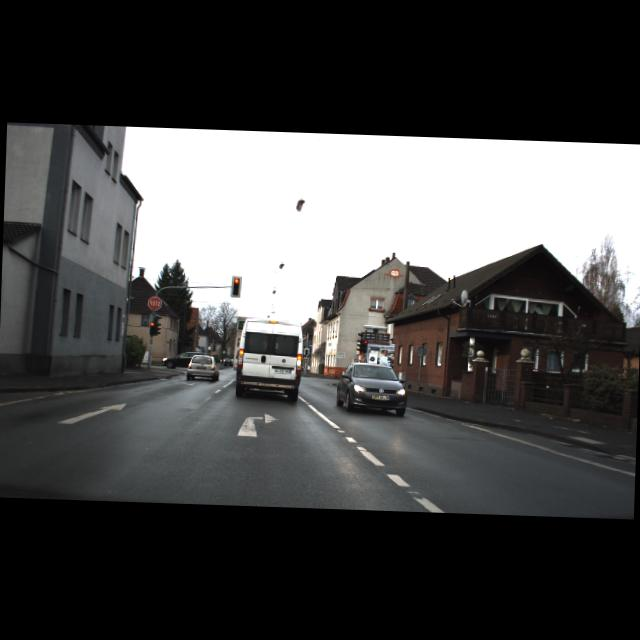other: (148, 296, 161, 308)
